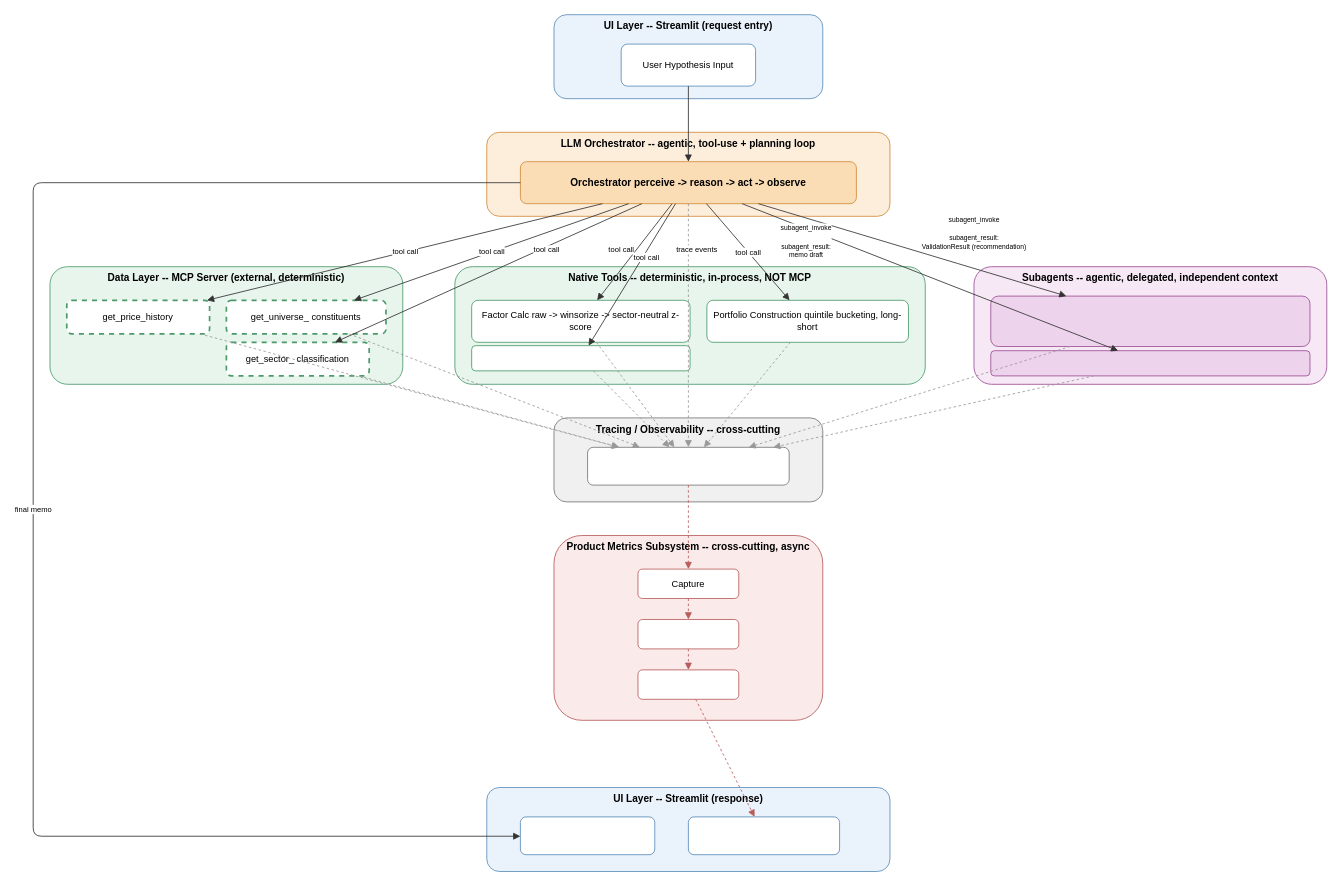
Some shapes in this 1341 by 886 pixel diagram are drawn without their labels. The shapes that lost their labels are listed below. From the top down, each one's centre as x and y in pixels, then its label:
At [1150,320]: "Validation Subagent fresh context outputs ValidationResult (recommendation)".
At [580,358]: "Factor Metrics IC, Rank IC, t-stat, hit rate".
At [1150,363]: "Memo Subagent few-shot house style".
At [688,465]: "JSON-lines TraceEvent log correlation ID (trace_id)".
At [688,634]: "Aggregate".
At [688,684]: "Present".
At [587,835]: "Research Memo Display".
At [764,835]: "Product Metrics Dashboard".
